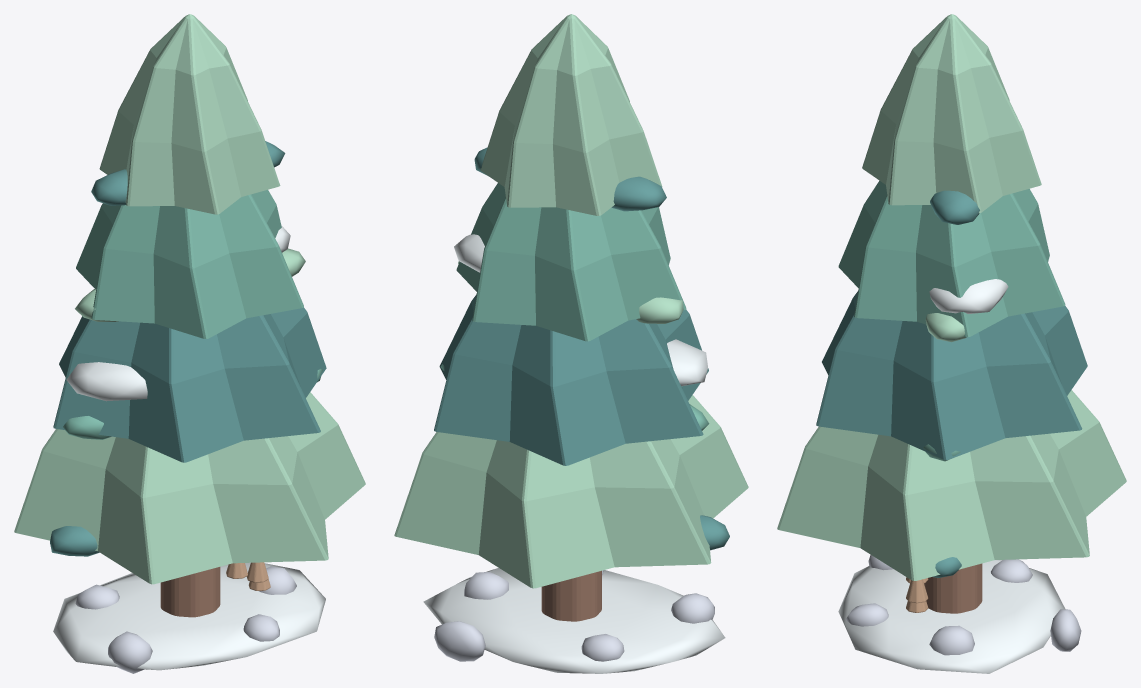
The model's file is northern_pine_c.glb.
3 renders of one model, left to right at view 1: azimuth 30°, elevation 25°; view 2: azimuth 150°, elevation 25°; view 3: azimuth 270°, elevation 25°, orthographic.
Visible parts, largest first — view 1: northern_pine_c.001; view 2: northern_pine_c.001; view 3: northern_pine_c.001.
Boxes of the visible parts, x1=… form: northern_pine_c.001: x1=14, y1=14, x2=365, y2=673; northern_pine_c.001: x1=394, y1=14, x2=748, y2=673; northern_pine_c.001: x1=777, y1=14, x2=1126, y2=673.
Size of the model in its own units: 6.7 by 12.53 by 6.51.
